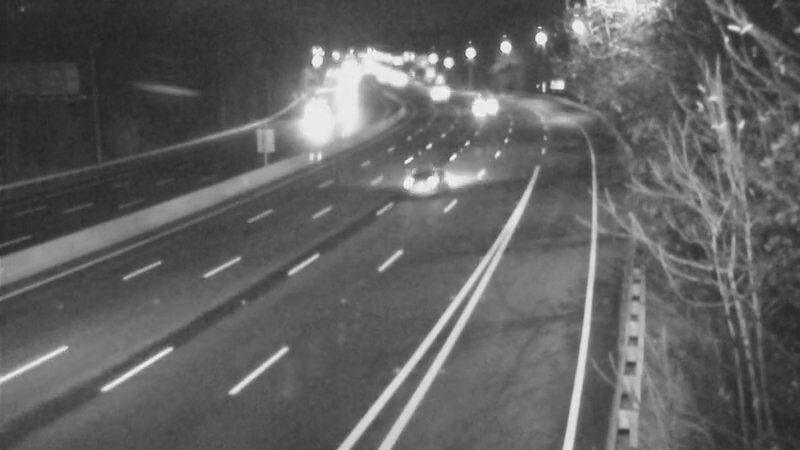vehicle: (378, 137, 458, 217), (413, 66, 463, 116), (457, 73, 507, 123), (294, 102, 344, 152)
